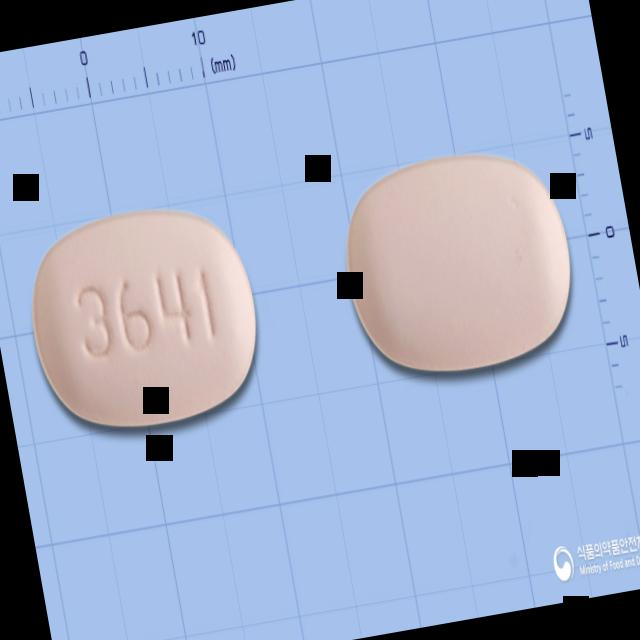Ciprocin - 259mg: (329, 135, 586, 387), (17, 192, 273, 444)
